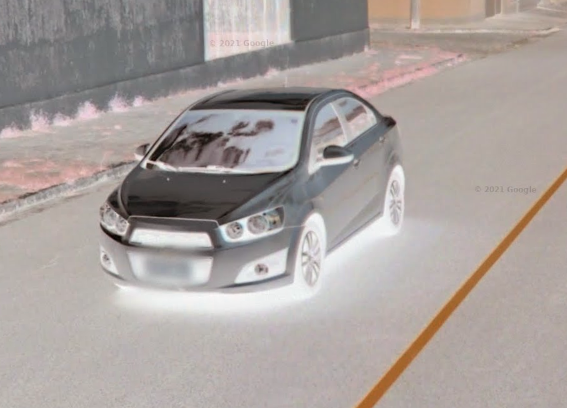car: (94, 73, 409, 301)
